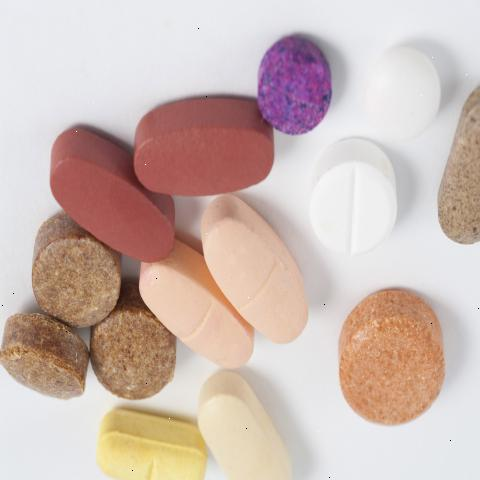Pill: (303, 131, 404, 278), (367, 36, 446, 156)
